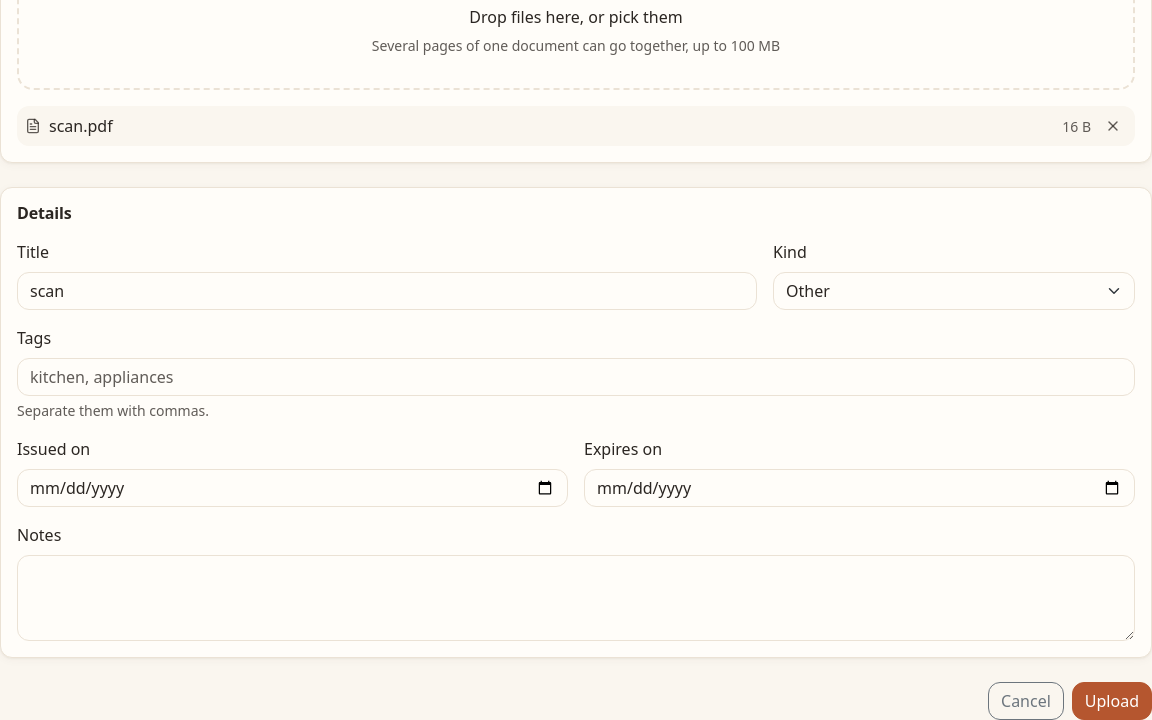
Scenario: DocumentUploadComponent › shows why the server refused the upload, and keeps the form
(page scrolled)
Click the submit button.
click(1112, 701)  # box [1072, 682, 1151, 719]
(page scrolled)
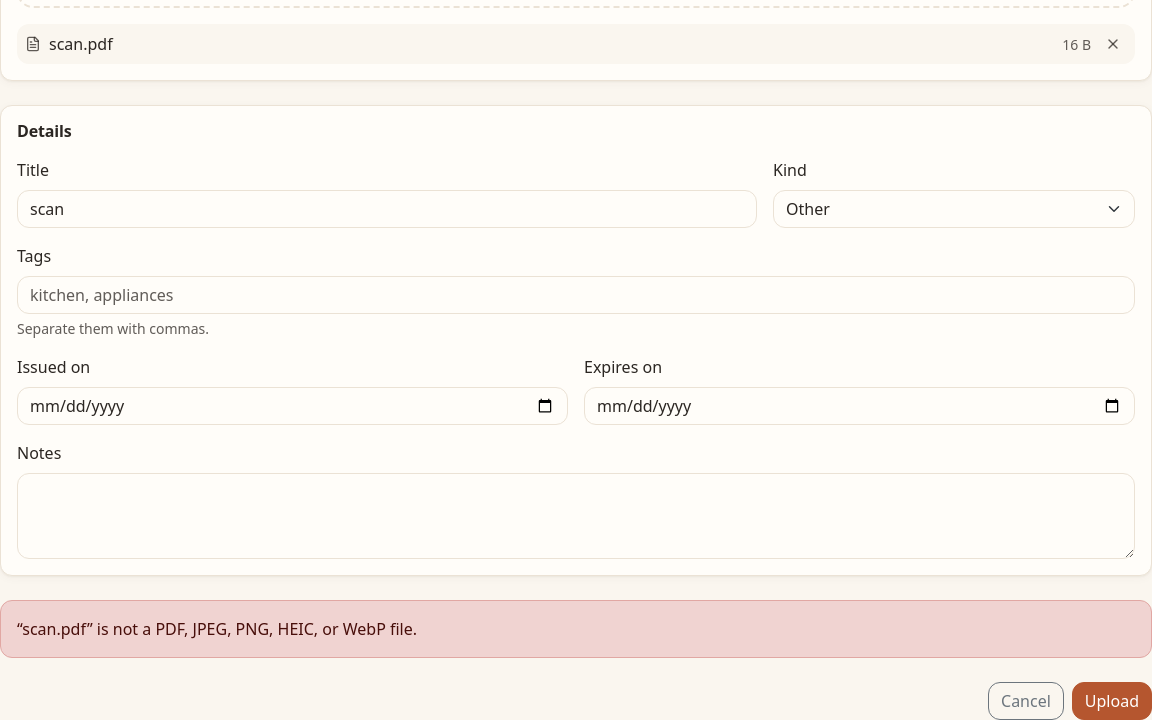
Expected: the message with test id "server-error" shows "is not a PDF, JPEG, PNG, HEIC, or WebP file.", [17, 618, 417, 640]
